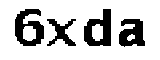6: (9, 6, 46, 49)
a: (117, 16, 149, 54)
d: (82, 5, 115, 52)
x: (45, 16, 78, 50)
